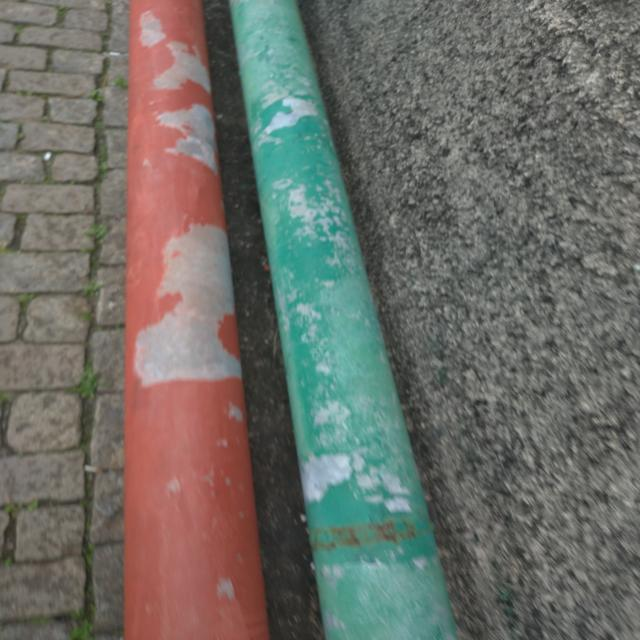gas: (236, 17, 454, 629), (128, 29, 271, 637)
